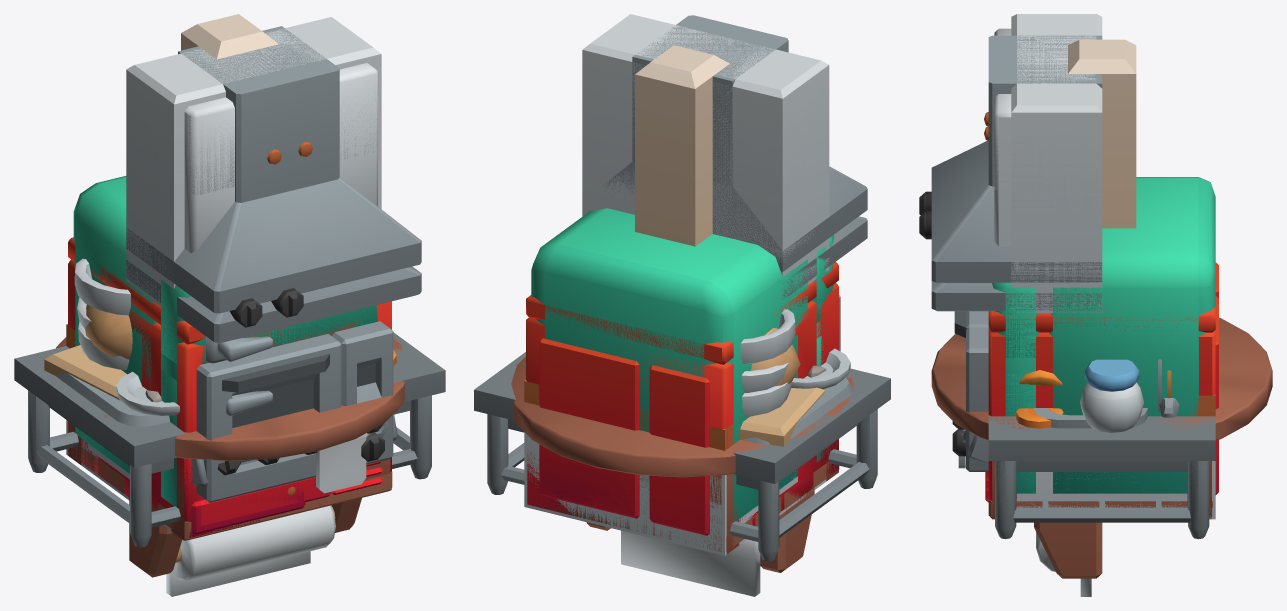
The model's file is kit-restaurant-bits.glb.
3 renders of one model, left to right at view 1: azimuth 30°, elevation 25°; view 2: azimuth 150°, elevation 25°; view 3: azimuth 270°, elevation 25°, orthographic. The views are drawn at different scales.
Visible parts, largest first — view 1: extractorhood, kitchencabinet, oven, fridge_A, kitchentable_sink_large_decorated, kitchentable_A_large, shelf_papertowel, table_round_B, kitchencabinet_half, kitchentable_A_large_decorated, stove_multi, pillar_A (+5 smaller); view 2: fridge_A, kitchencabinet, oven, pillar_A, extractorhood, kitchentable_sink_large_decorated, kitchentable_A_large, table_round_B, shelf_papertowel, stove_multi, kitchencounter_sink, kitchentable_A_large_decorated (+6 smaller); view 3: fridge_A, kitchencabinet, extractorhood, kitchentable_A_large, oven, table_round_B, pillar_A, kitchentable_sink_large_decorated, kitchentable_A_large_decorated, kitchencabinet_half, shelf_papertowel, fridge_B (+4 smaller).
Boxes of the visible parts, x1,y1,x2,y2 form: extractorhood: (126, 26, 421, 343); kitchencabinet: (126, 17, 381, 306); oven: (68, 237, 393, 537); fridge_A: (73, 176, 377, 506); kitchentable_sink_large_decorated: (14, 258, 444, 538); kitchentable_A_large: (14, 333, 445, 547); shelf_papertowel: (129, 498, 361, 596); table_round_B: (56, 337, 404, 460); kitchencabinet_half: (126, 54, 381, 206); kitchentable_A_large_decorated: (44, 304, 396, 400); stove_multi: (68, 414, 397, 537); pillar_A: (181, 14, 278, 59); fridge_A: (531, 208, 833, 520); kitchencabinet: (582, 14, 829, 301); oven: (526, 262, 840, 535); pillar_A: (635, 45, 729, 246); extractorhood: (603, 15, 867, 299); kitchentable_sink_large_decorated: (475, 309, 889, 550); kitchentable_A_large: (474, 352, 890, 561); table_round_B: (511, 356, 853, 477); shelf_papertowel: (586, 486, 814, 596); stove_multi: (527, 439, 838, 533); kitchencounter_sink: (524, 433, 826, 555); kitchentable_A_large_decorated: (740, 328, 824, 446); fridge_A: (992, 177, 1215, 493); kitchencabinet: (994, 14, 1102, 313); extractorhood: (919, 35, 1102, 311); kitchentable_A_large: (988, 415, 1215, 539); oven: (952, 262, 1218, 502); table_round_B: (931, 317, 1272, 440); pillar_A: (1068, 39, 1136, 228); kitchentable_sink_large_decorated: (989, 398, 1215, 529); kitchentable_A_large_decorated: (1016, 359, 1171, 432); kitchencabinet_half: (984, 112, 1102, 210); shelf_papertowel: (1034, 522, 1102, 596); fridge_B: (997, 287, 1039, 493).
Size of the model in its own units: 3 by 5.01 by 3.11.
1 material, 1 textured.
